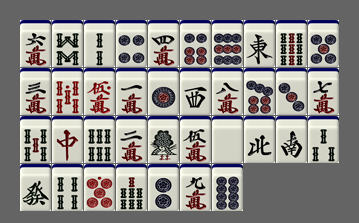0m: (84, 68, 115, 115)
0p: (84, 164, 115, 211)
0s: (52, 68, 83, 115)
1m: (116, 68, 147, 115)
1p: (148, 68, 179, 115)
1s: (148, 116, 179, 163)
1z: (244, 20, 275, 67)
2m: (116, 116, 147, 163)
2p: (148, 164, 179, 211)
2s: (84, 20, 115, 67)
2z: (276, 116, 307, 163)
3m: (20, 68, 51, 115)
3p: (276, 68, 307, 115)
3s: (308, 116, 339, 163)
3z: (180, 68, 211, 115)
4m: (148, 20, 179, 67)
4p: (116, 20, 147, 67)
4s: (52, 164, 83, 211)
4z: (244, 116, 275, 163)
5m: (180, 116, 211, 163)
5p: (308, 20, 339, 67)
5s: (20, 116, 51, 163)
5z: (212, 116, 243, 163)
6m: (20, 20, 51, 67)
6p: (180, 20, 211, 67)
6s: (84, 116, 115, 163)
6z: (20, 164, 51, 211)
7m: (308, 68, 339, 115)
7p: (244, 68, 275, 115)
7s: (116, 164, 147, 211)
7z: (52, 116, 83, 163)
8m: (212, 68, 243, 115)
8p: (212, 164, 243, 211)
8s: (52, 20, 83, 67)
9m: (180, 164, 211, 211)
9p: (212, 20, 243, 67)
9s: (276, 20, 307, 67)
